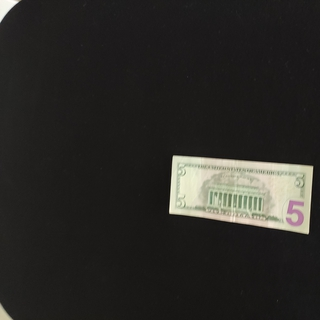5USDBack: (168, 154, 313, 234)
